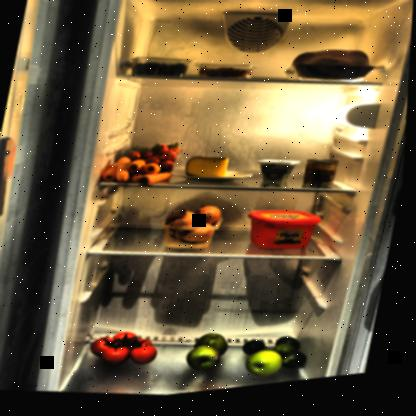apple: (187, 329, 239, 382), (248, 352, 291, 388)
blueberries: (130, 58, 189, 87)
butter: (246, 207, 327, 265)
carrot: (96, 153, 178, 196)
cheese: (184, 154, 233, 189)
chicken: (284, 44, 381, 101)
corn: (303, 162, 342, 198)
lime: (274, 340, 316, 381), (246, 343, 273, 365)
onion: (164, 202, 227, 256)
shrimp: (193, 64, 255, 93)
strawberries: (124, 142, 181, 183)
tomato: (88, 326, 171, 377)
